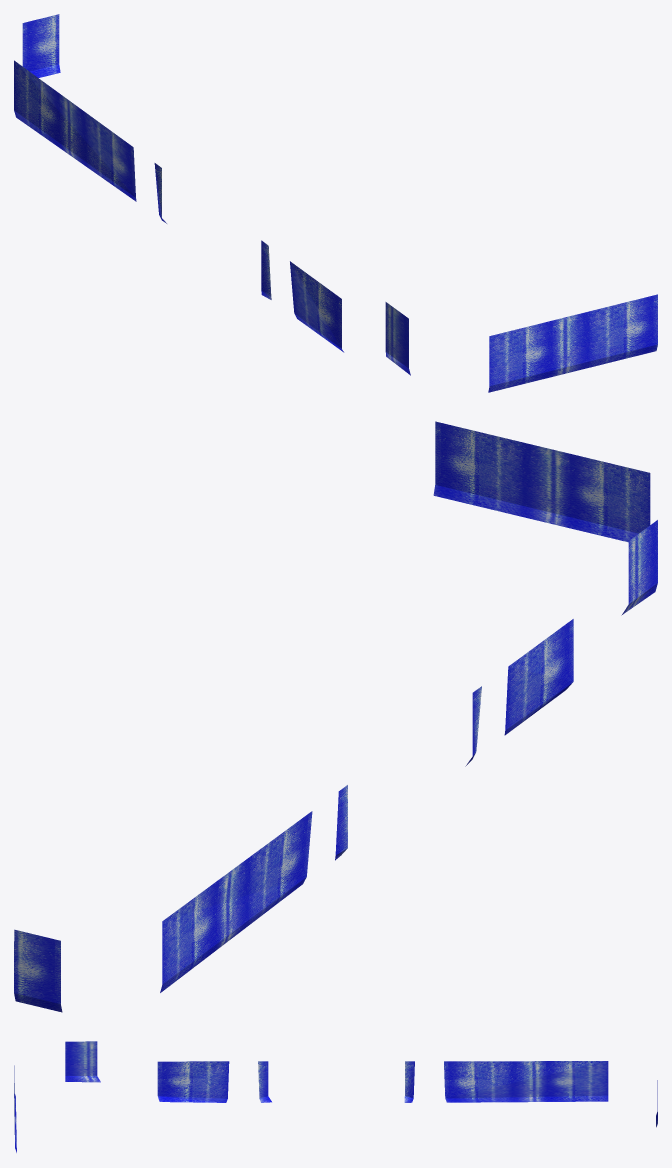
The picture shows the model from 3 angles, top to bottom: view 1: azimuth 30°, elevation 25°; view 2: azimuth 150°, elevation 25°; view 3: azimuth 270°, elevation 25°; orthographic projection. The views are drawn at different scales.
Size of the model in its own units: 0.3885 by 0.1506 by 1.47.
Materials: 1 (1 with a texture image).
